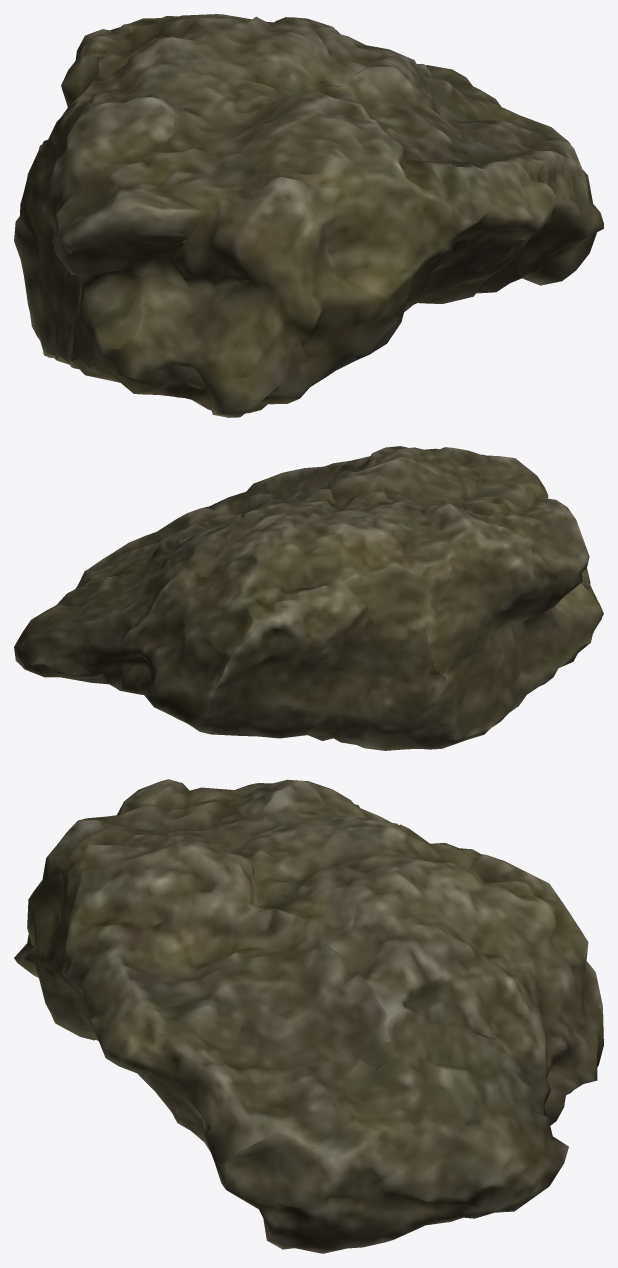
File: rock_moss_set_02_d.gltf.lod.glb
3 views of the same model, one above another, from view 1: azimuth 30°, elevation 25°; view 2: azimuth 150°, elevation 25°; view 3: azimuth 270°, elevation 25° (orthographic). The views are drawn at different scales.
Parts seen in each view (by area): view 1: rock_moss_set_02_rock12; view 2: rock_moss_set_02_rock12; view 3: rock_moss_set_02_rock12.
Part boxes in pixels (x1=…): rock_moss_set_02_rock12: x1=14, y1=14, x2=603, y2=417; rock_moss_set_02_rock12: x1=14, y1=446, x2=603, y2=750; rock_moss_set_02_rock12: x1=14, y1=779, x2=603, y2=1253.
Bounding box in the file's own units: 1.58 × 0.736 × 1.44.
1 material, 1 textured.
